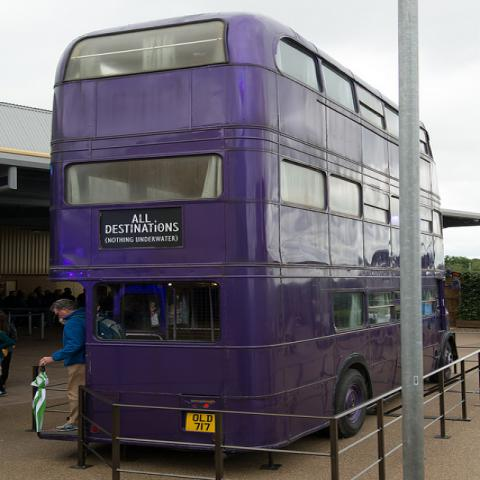bus: (49, 13, 459, 448)
